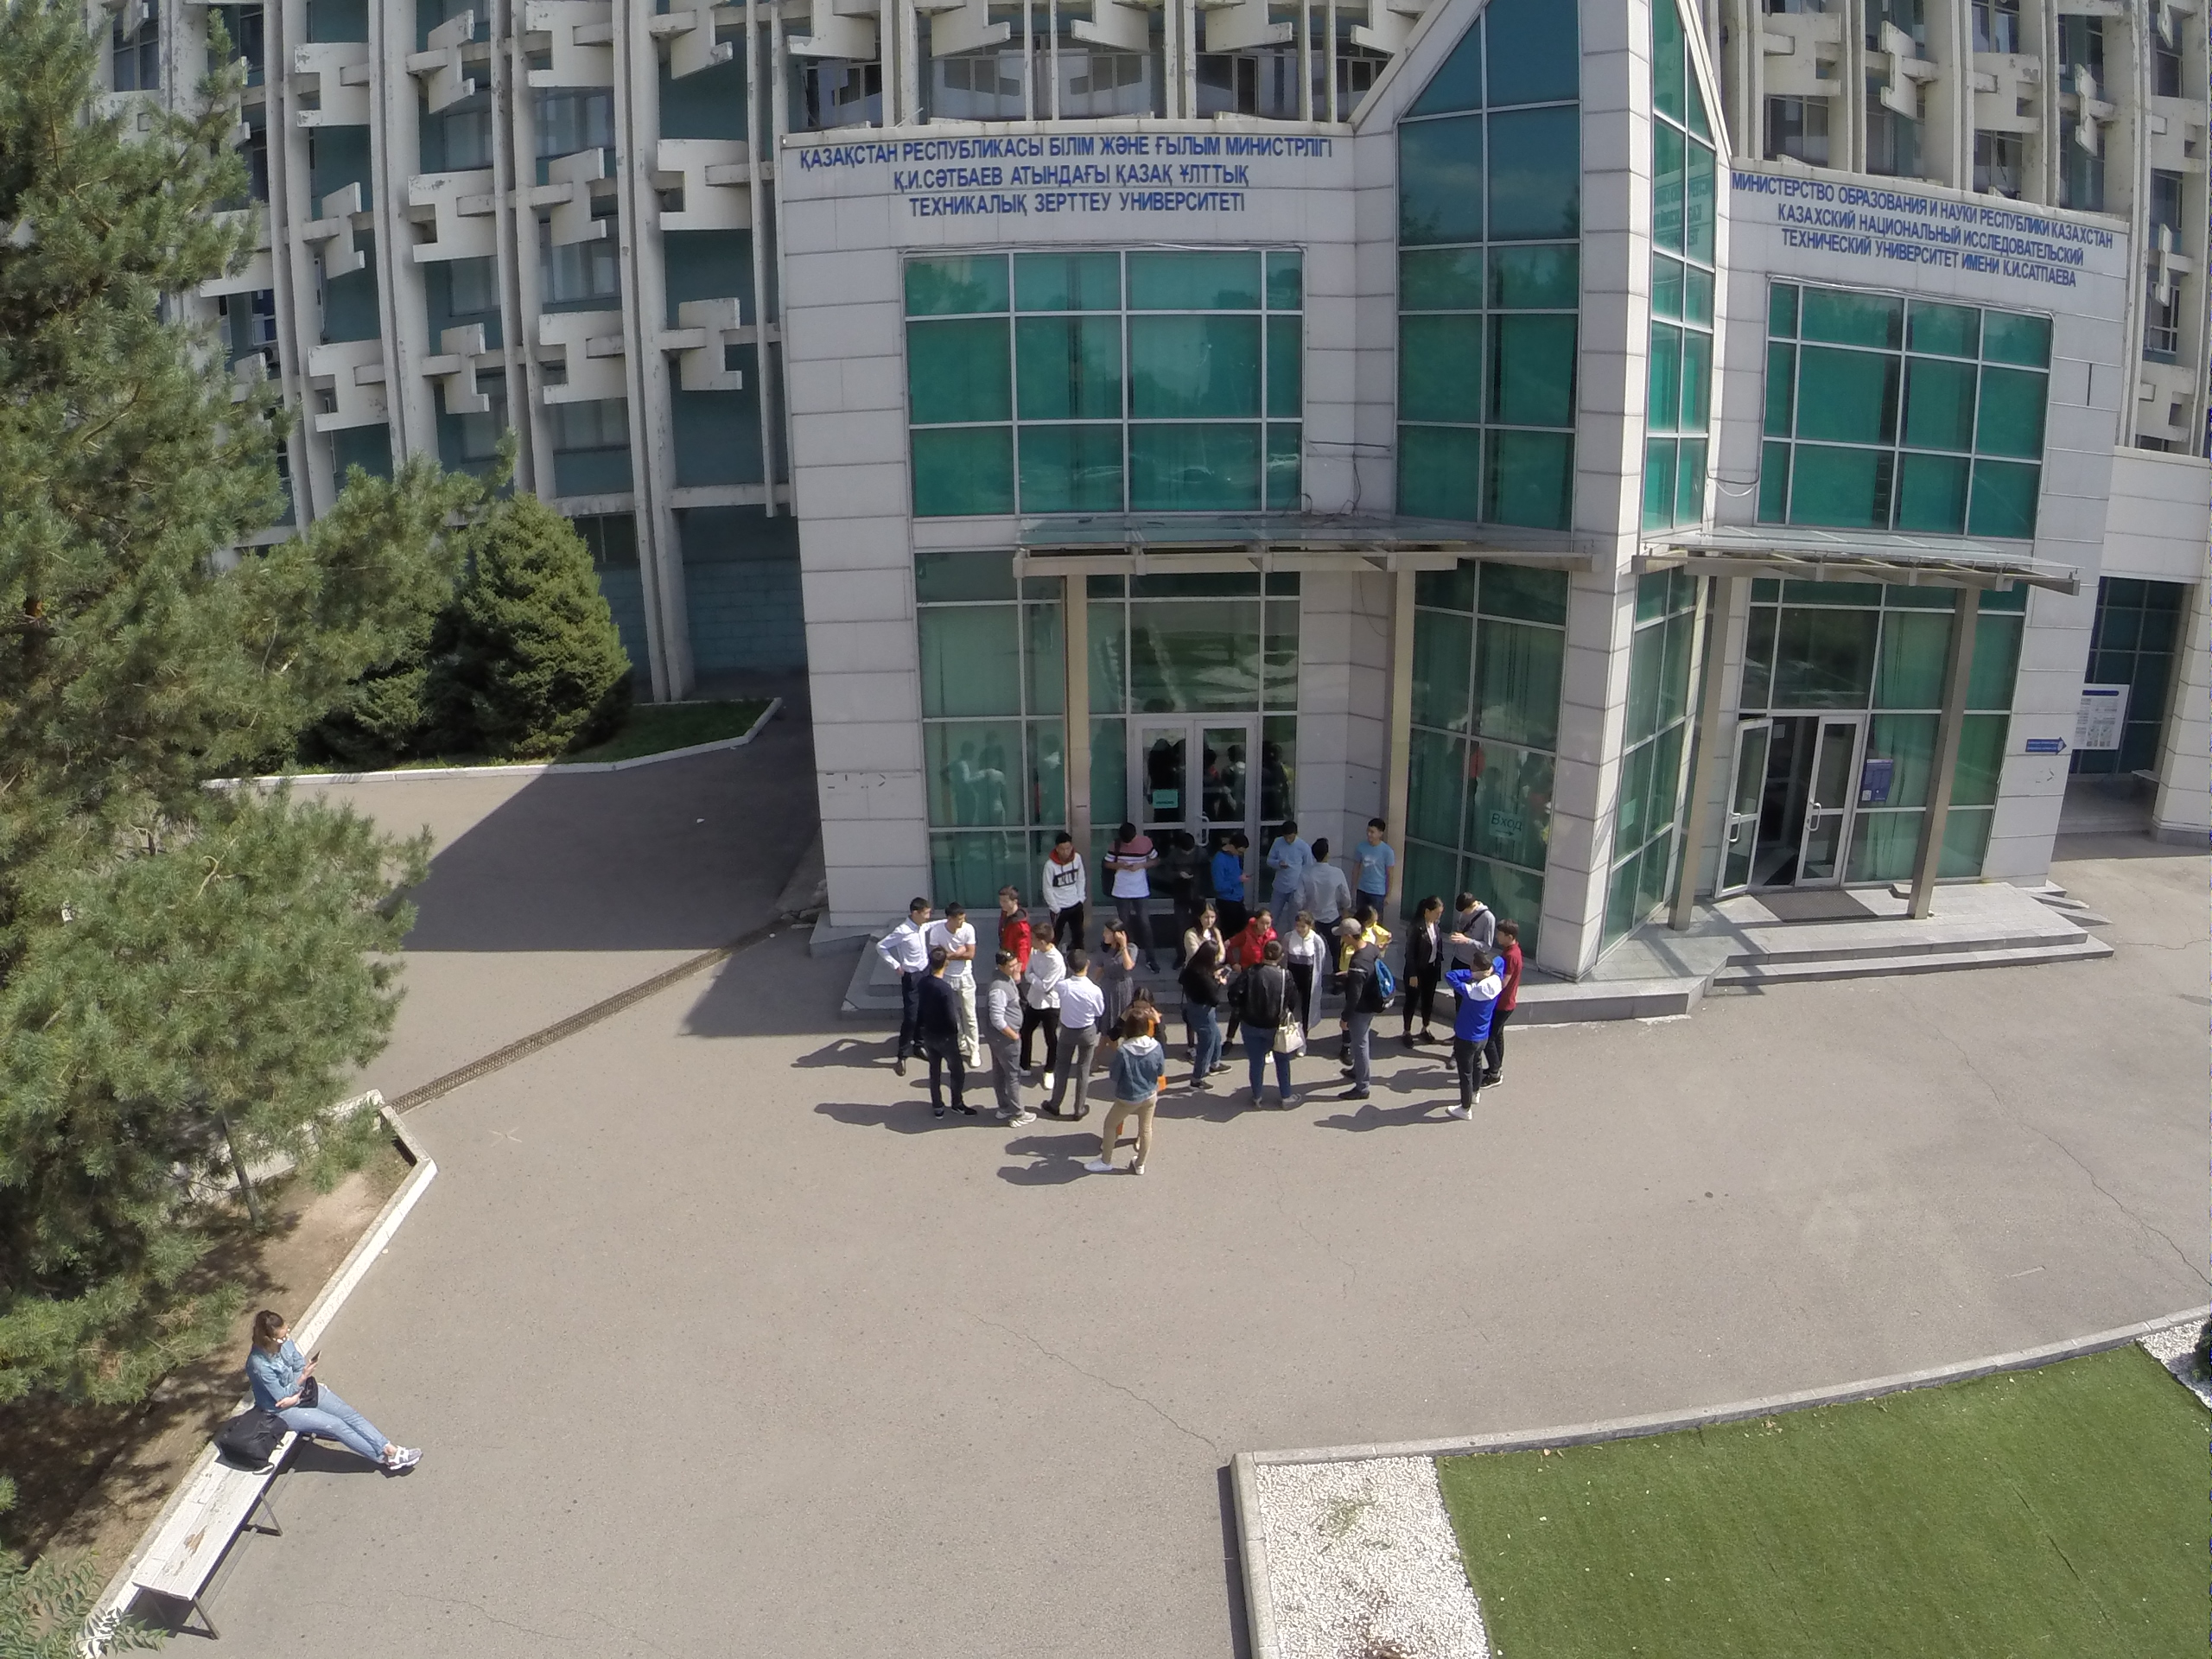person: (213, 1297, 415, 1495), (1095, 1008, 1173, 1187), (1232, 939, 1308, 1111), (1441, 949, 1506, 1135), (874, 892, 930, 1079), (1324, 923, 1382, 1099), (990, 956, 1046, 1133), (918, 954, 974, 1129), (1043, 953, 1098, 1123), (1022, 918, 1075, 1097), (1181, 943, 1240, 1094), (1109, 825, 1163, 977), (944, 894, 978, 1108), (1293, 838, 1360, 933), (1495, 918, 1535, 1077), (1042, 829, 1091, 951), (1411, 888, 1448, 1057), (1262, 825, 1313, 926), (1357, 815, 1401, 929), (1205, 835, 1254, 917), (1166, 833, 1208, 917), (1096, 918, 1138, 1009), (992, 891, 1031, 972), (1189, 901, 1235, 958), (1447, 890, 1489, 950)
